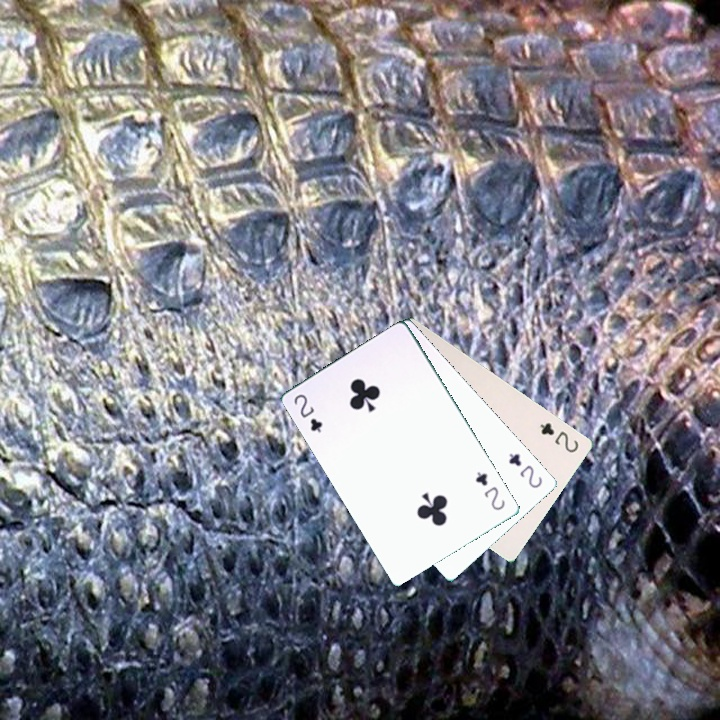2c: (504, 449, 545, 491), (536, 418, 581, 455), (471, 468, 508, 513), (290, 390, 325, 435)
